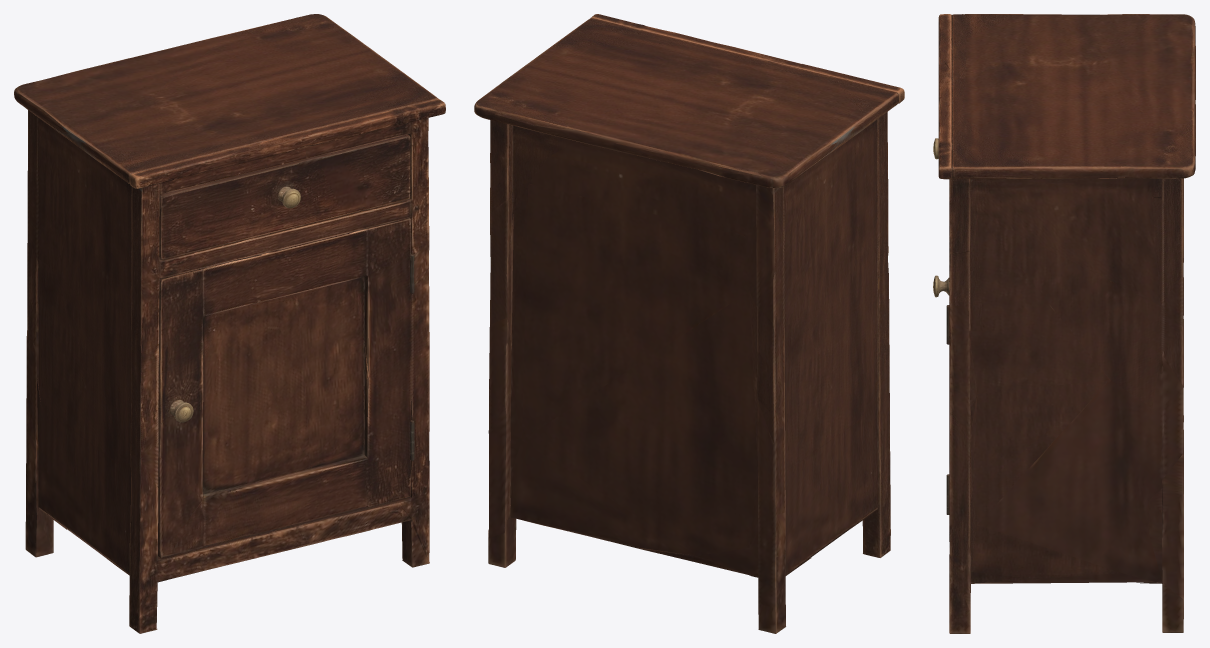
The model's file is comodino.glb.
3 renders of one model, left to right at view 1: azimuth 30°, elevation 25°; view 2: azimuth 150°, elevation 25°; view 3: azimuth 270°, elevation 25°, orthographic. The views are drawn at different scales.
Visible parts, largest first — view 1: Mesh_0; view 2: Mesh_0; view 3: Mesh_0.
Boxes of the visible parts, bbox=[...] form: Mesh_0: bbox=[14, 14, 445, 633]; Mesh_0: bbox=[474, 14, 904, 633]; Mesh_0: bbox=[933, 14, 1195, 633].
Size of the model in its own units: 1.34 by 1.9 by 0.96.
1 material, 1 textured.
